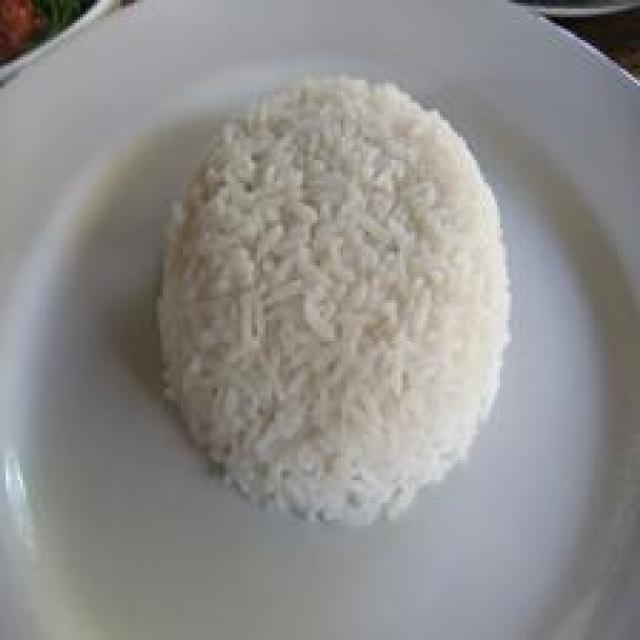Wet Waste: (150, 67, 518, 534)
